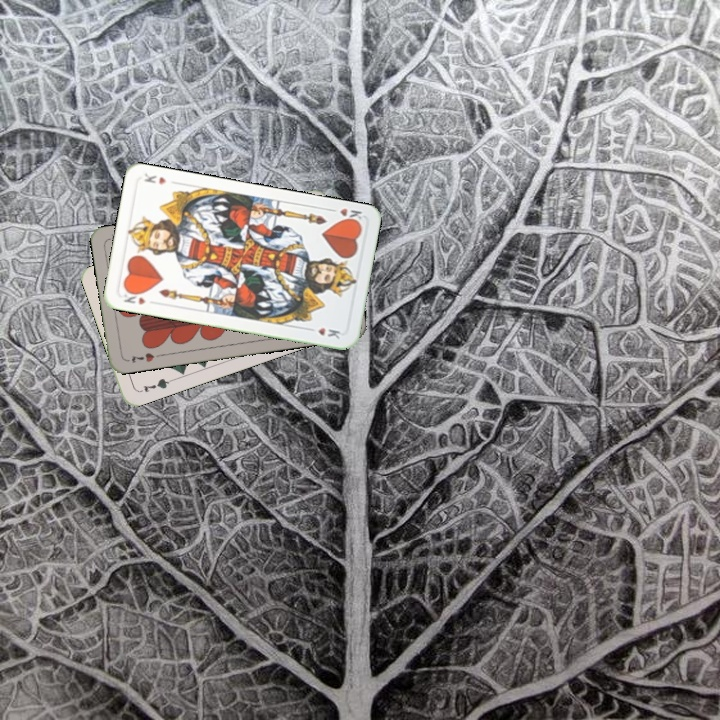G7: (139, 374, 175, 395)
H7: (127, 349, 164, 366)
HK: (325, 204, 365, 226), (120, 286, 148, 307)
